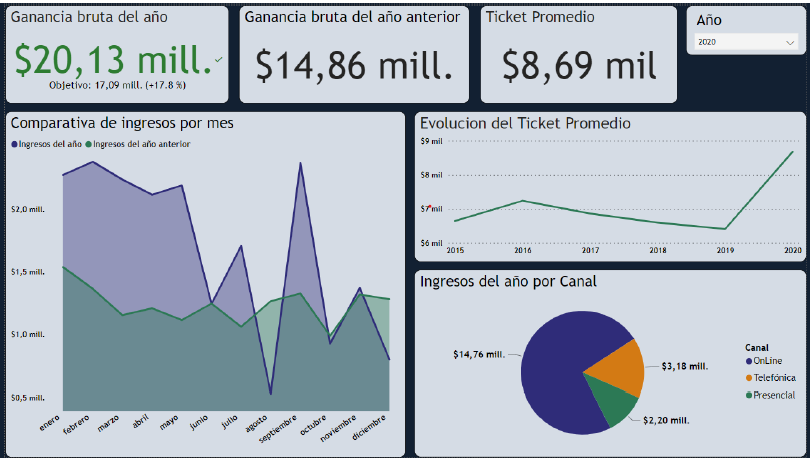

Layout of this report page (visuals, bound fields, positions):
{"tool":"powerbi","page":{"name":"Ganancia","canvas":[1280,720],"ordinal":1},"visuals":[{"type":"pieChart","fields":{"Category":["dim_canal.Canal"],"Y":["fact_ventas.Total_Ventas"]},"box":[653.8,421.2,626.2,298.8],"z":0},{"type":"lineChart","title":"Evolucion del Ticket Promedio","fields":{"Y":["fact_ventas.Ticket_Promedio"],"Category":["dim_calendario.Fecha.Variación.Jerarquía de fechas.Año","dim_calendario.Fecha.Variación.Jerarquía de fechas.Trimestre","dim_calendario.Fecha.Variación.Jerarquía de fechas.Mes","dim_calendario.Fecha.Variación.Jerarquía de fechas.Día"]},"box":[653.8,168.8,626.2,240],"z":1000},{"type":"slicer","title":"Año","fields":{"Values":["dim_calendario.Año"]},"box":[1086.6,76,193,79.6],"z":2000},{"type":"areaChart","title":"Comparativa de ingresos por mes","fields":{"Category":["dim_calendario.Fecha.Variación.Jerarquía de fechas.Año","dim_calendario.Fecha.Variación.Jerarquía de fechas.Trimestre","dim_calendario.Fecha.Variación.Jerarquía de fechas.Mes","dim_calendario.Fecha.Variación.Jerarquía de fechas.Día"],"Y":["fact_ventas.Total_Ventas","fact_ventas.ventas_año_pasado"]},"box":[0,168.8,640.4,240],"z":3000},{"type":"kpi","title":"Ganancia bruta del año","fields":{"Indicator":["fact_ventas.Total_Ventas"],"Goal":["fact_ventas.objetivo_ventas"],"TrendLine":["dim_calendario.Fecha.Variación.Jerarquía de fechas.Año"]},"box":[0,0,358.2,155.6],"z":4000},{"type":"card","title":"Ticket Promedio","fields":{"Values":["fact_ventas.Ticket_Promedio"]},"box":[758.8,0,314.9,155.7],"z":5000},{"type":"card","title":"Ganancia bruta del año anterior","fields":{"Values":["fact_ventas.ventas_año_pasado"]},"box":[372.7,0,369,155.6],"z":6000},{"type":"columnChart","title":"Ventas segun rango etario del cliente","fields":{"Y":["fact_ventas.Ingresos del año"],"Category":["dim_clientes.Rango_Etario"]},"box":[0,421,640,299],"z":7000},{"type":"shape","box":[1086.6,0,193,67.5],"z":7001}]}

Visuals, with their boxes in screenshot pixels (x1, y1, x2, y2), scaled from the page's 1280x720 canvas onto the 810x458 screenshot:
pieChart - dim_canal.Canal x fact_ventas.Total_Ventas: crop(414, 268, 809, 457)
"Evolucion del Ticket Promedio" lineChart: crop(414, 107, 809, 260)
"Año" slicer: crop(688, 48, 809, 99)
"Comparativa de ingresos por mes" areaChart: crop(0, 107, 405, 260)
"Ganancia bruta del año" kpi: crop(0, 0, 227, 99)
"Ticket Promedio" card: crop(480, 0, 679, 99)
"Ganancia bruta del año anterior" card: crop(236, 0, 469, 99)
"Ventas segun rango etario del cliente" columnChart: crop(0, 268, 405, 457)
shape: crop(688, 0, 809, 43)
